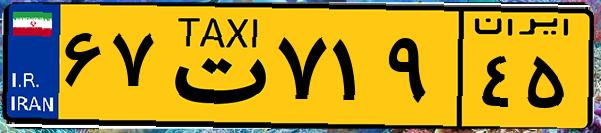1: (330, 28, 385, 110)
4: (475, 38, 525, 113)
5: (525, 38, 570, 115)
6: (57, 26, 110, 100)
7: (270, 28, 330, 110), (110, 28, 158, 98)
9: (385, 28, 445, 110)
ت: (158, 12, 270, 120)
